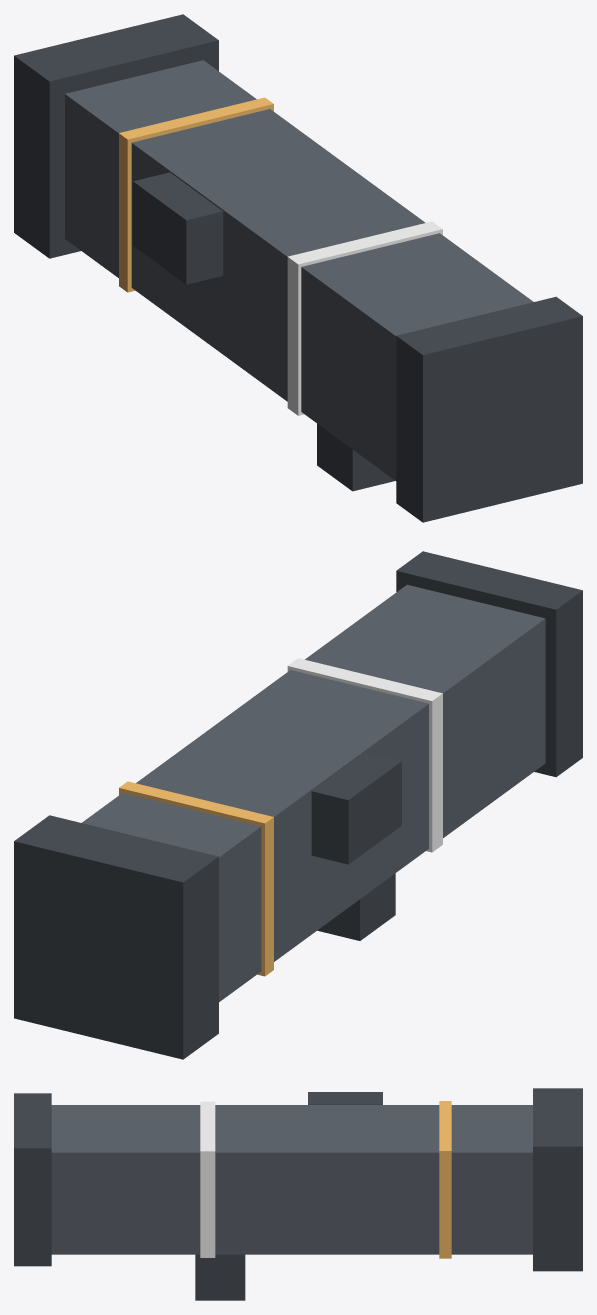
The model's file is ROCKET.gltf.
3 views of the same model, one above another, from view 1: azimuth 30°, elevation 25°; view 2: azimuth 150°, elevation 25°; view 3: azimuth 270°, elevation 25° (orthographic). The views are drawn at different scales.
Parts seen in each view (by area): view 1: ROCKET; view 2: ROCKET; view 3: ROCKET.
Part boxes in pixels (x1,y1,x2,y2): ROCKET: (14,14,582,522); ROCKET: (14,551,582,1059); ROCKET: (14,1088,582,1300).
Bounding box in the file's own units: 0.125 × 0.155 × 0.455.
